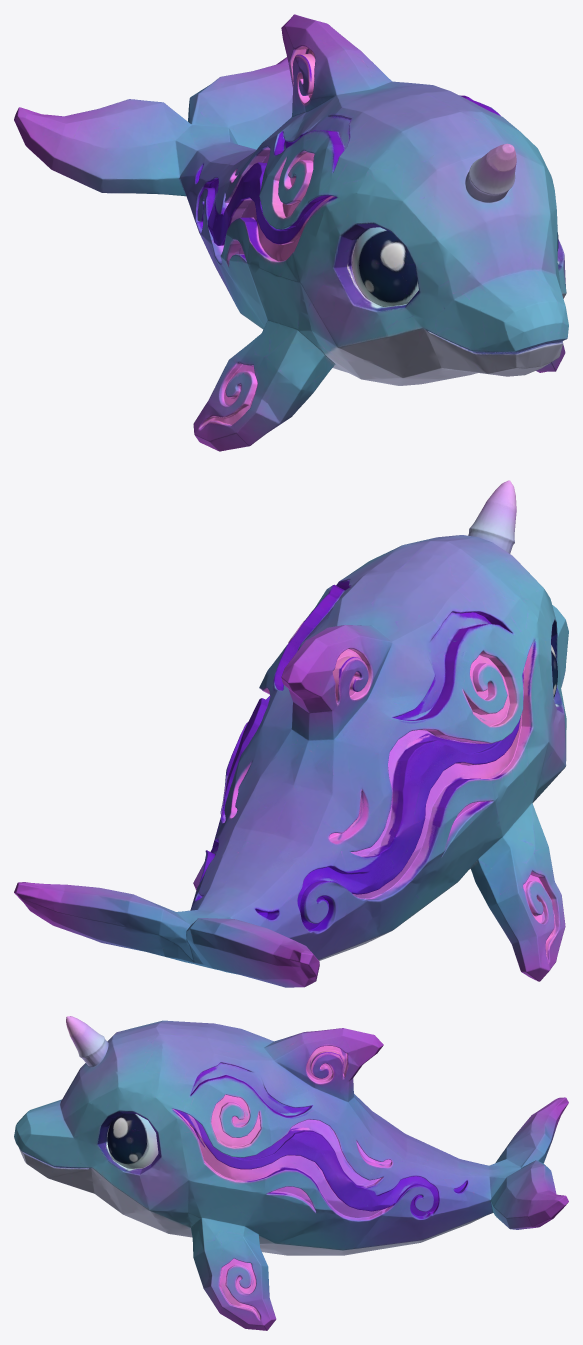
The model's file is meshy_1793190553113.glb.
The picture shows the model from 3 angles, top to bottom: view 1: azimuth 30°, elevation 25°; view 2: azimuth 150°, elevation 25°; view 3: azimuth 270°, elevation 25°; orthographic projection. The views are drawn at different scales.
Bounding box in the file's own units: 1 × 0.966 × 1.9.
Materials: 1 (1 with a texture image).
